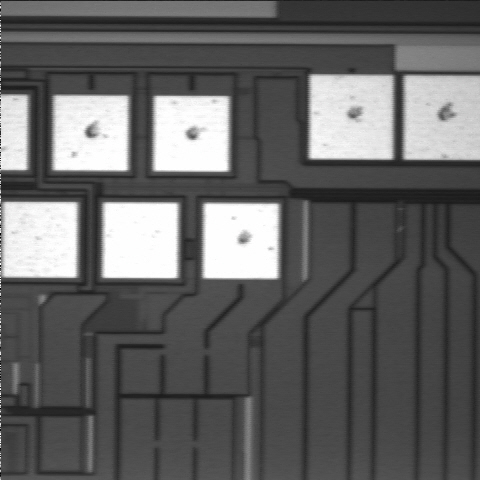pad: (309, 75, 393, 159), (102, 202, 179, 278), (153, 96, 229, 172), (2, 202, 78, 278), (203, 203, 279, 279), (53, 96, 128, 171)
